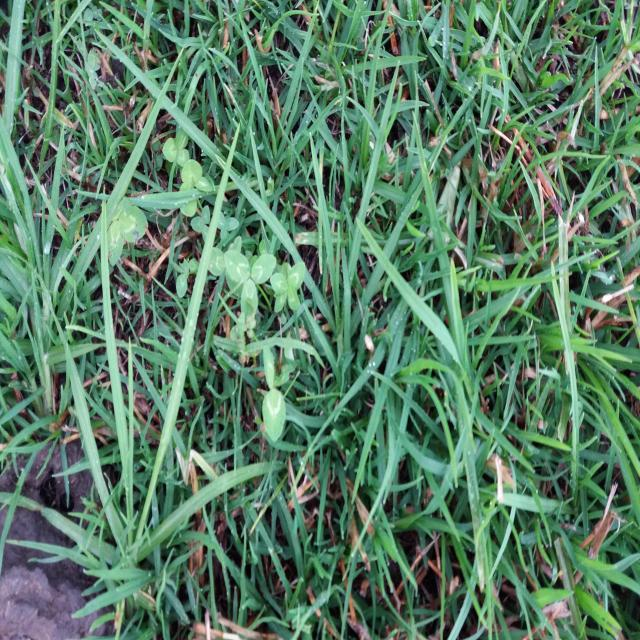Four Leaf Clover: (270, 262, 305, 313)
